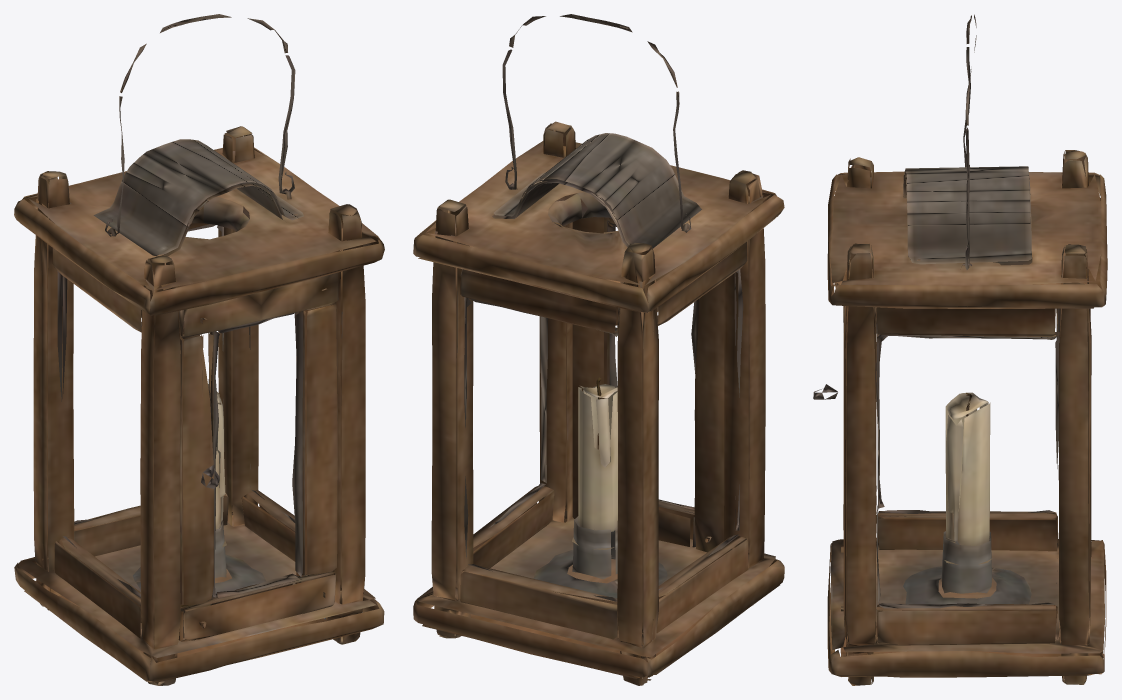
File: lantern.glb
3 views of the same model, side by side, from view 1: azimuth 30°, elevation 25°; view 2: azimuth 150°, elevation 25°; view 3: azimuth 270°, elevation 25° (orthographic).
Parts seen in each view (by area): view 1: wooden_lantern_01; view 2: wooden_lantern_01; view 3: wooden_lantern_01.
Part boxes in pixels (bbox=[...]): wooden_lantern_01: bbox=[14, 14, 384, 685]; wooden_lantern_01: bbox=[413, 14, 784, 685]; wooden_lantern_01: bbox=[813, 14, 1107, 685].
Bounding box in the file's own units: 0.221 × 0.5292 × 0.232.
Materials: 1 (1 with a texture image).
